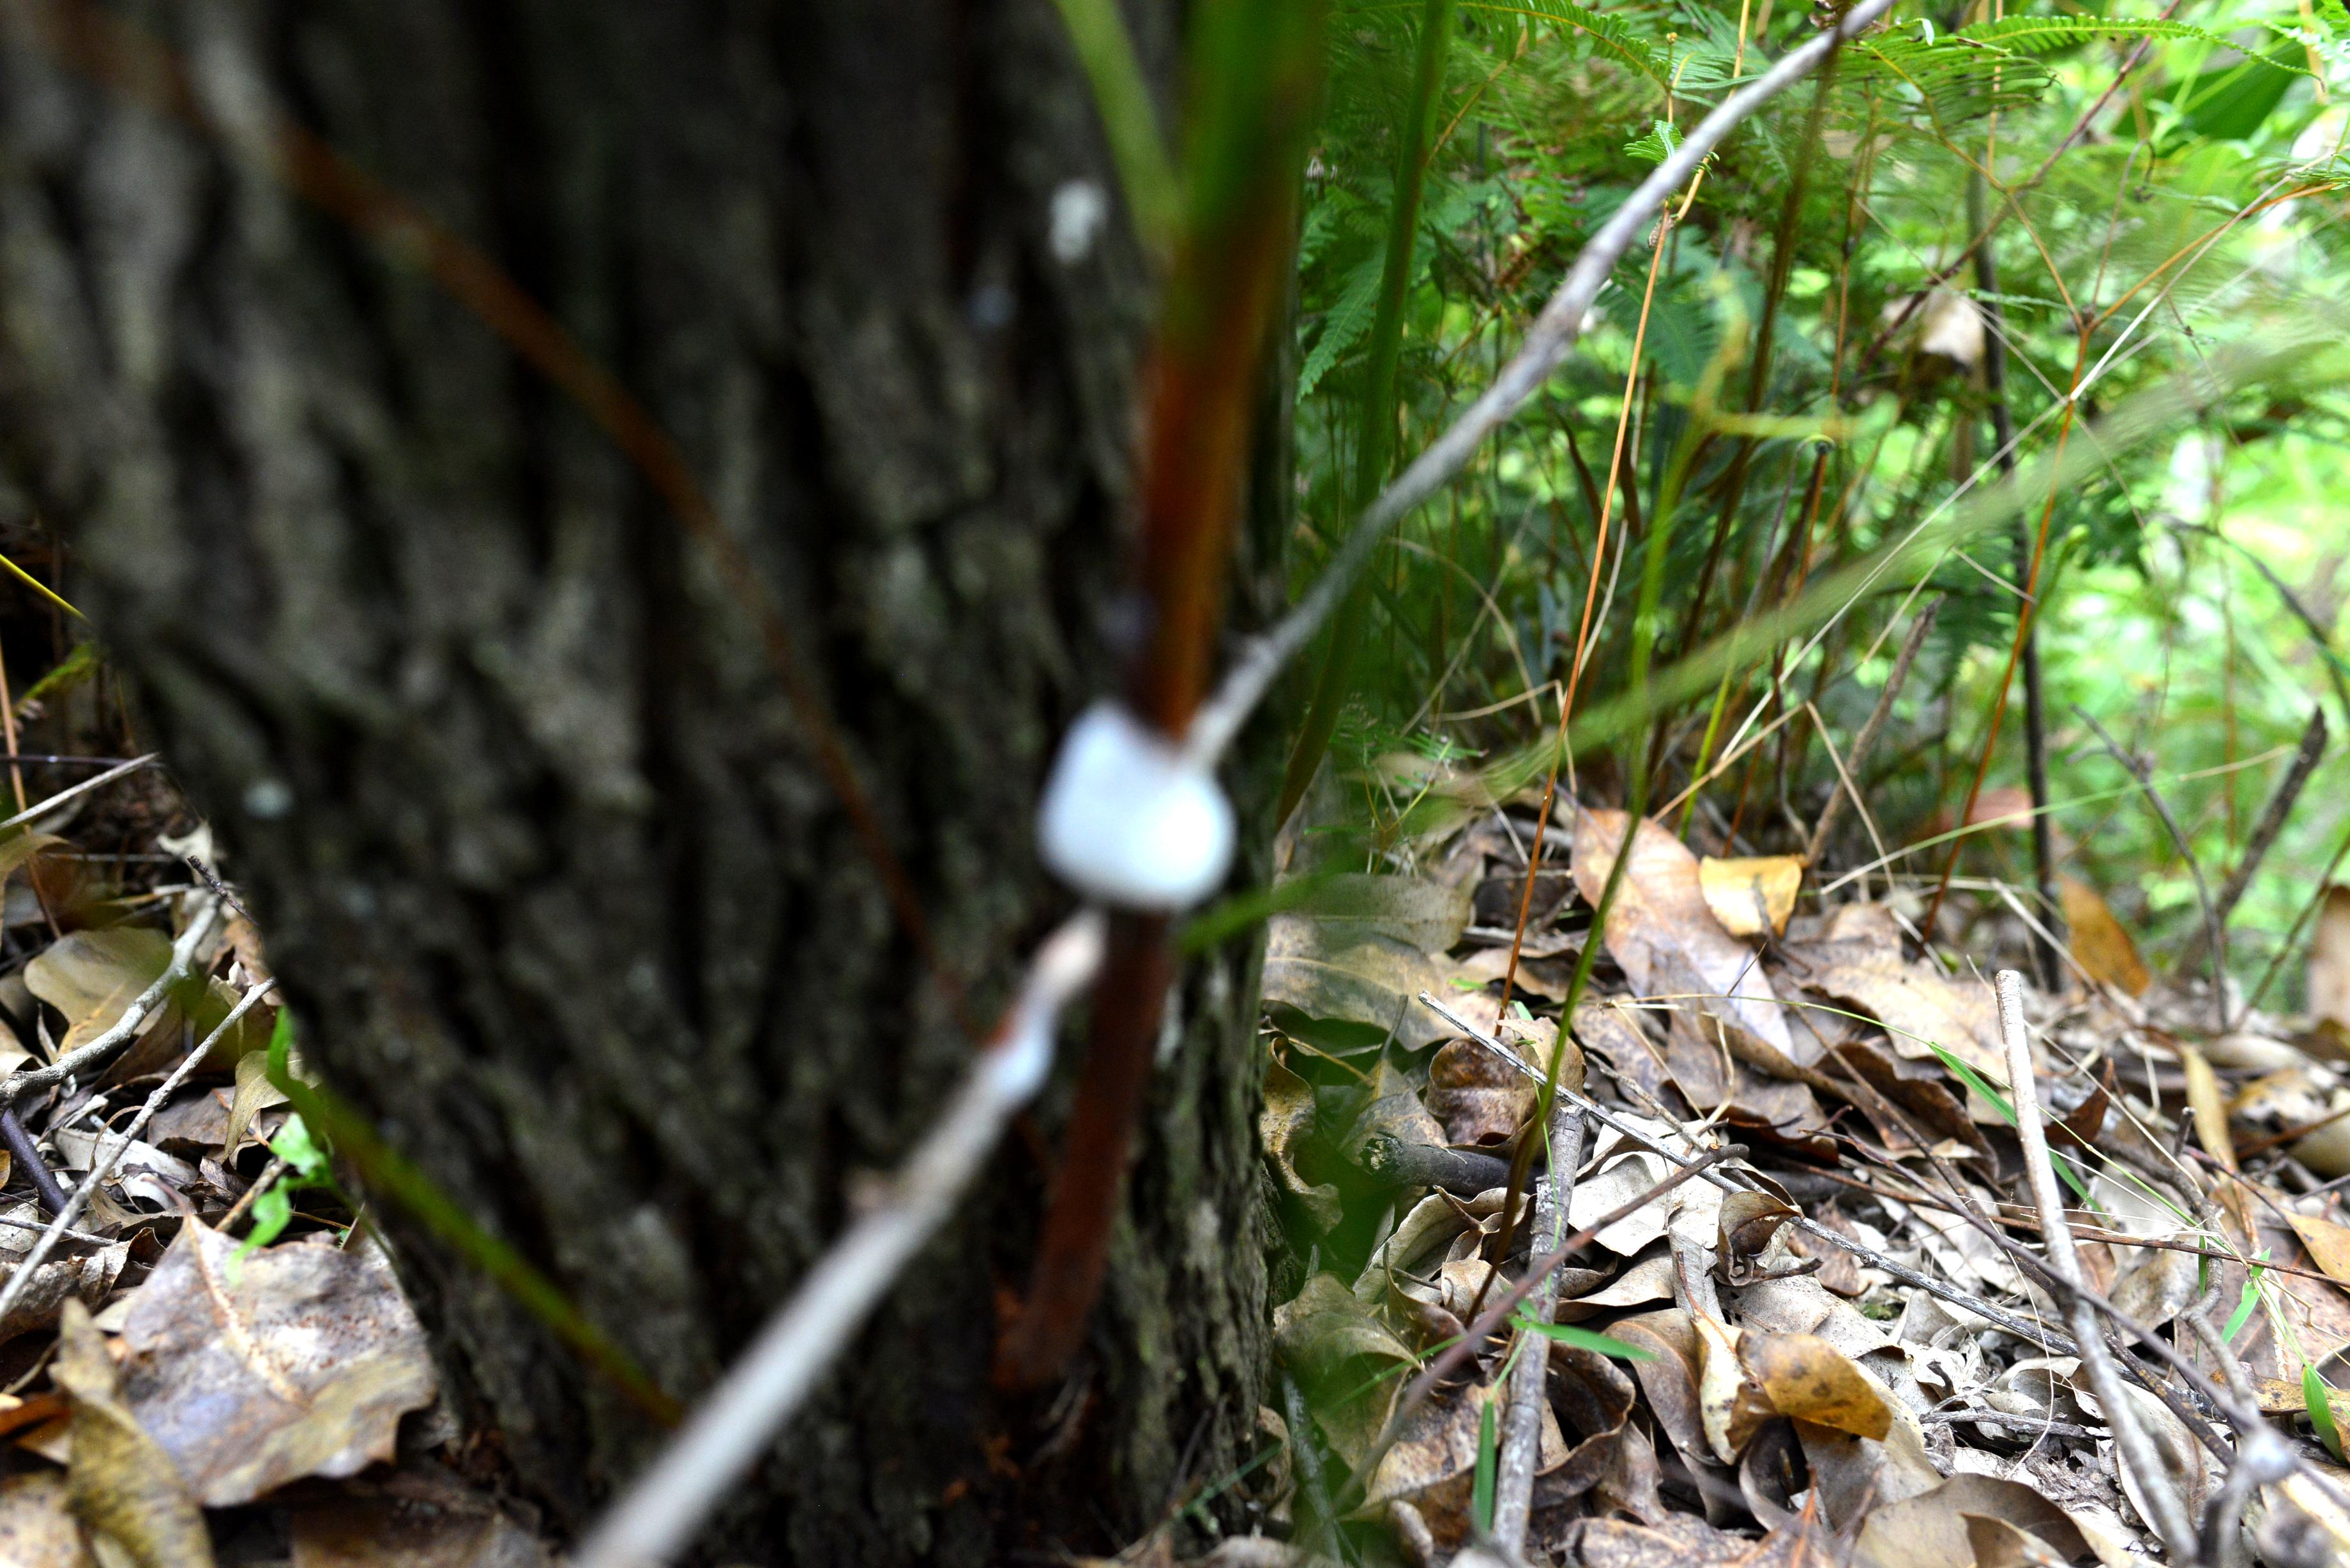Ceratocystis - Bubble: (1010, 677, 1235, 915)
